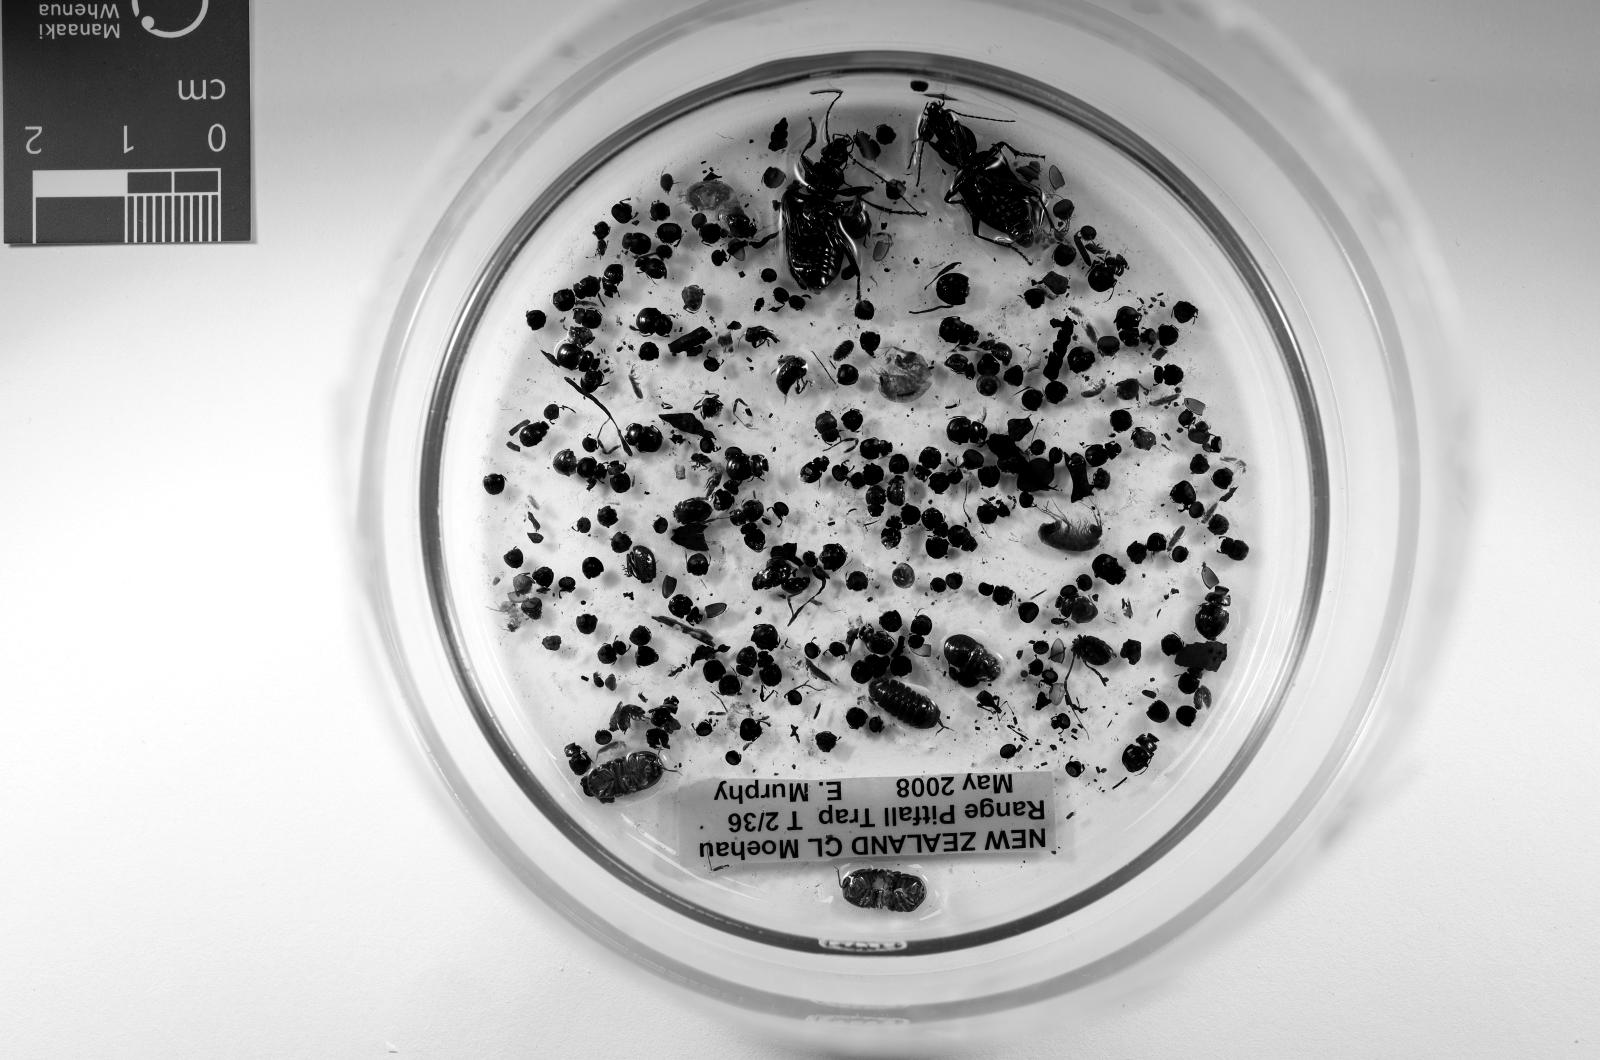acari: (660, 174, 675, 193), (594, 674, 603, 690)
amphipoda: (879, 348, 931, 403), (1037, 512, 1103, 552), (687, 180, 740, 214), (500, 602, 525, 634), (890, 562, 915, 587)
carabidae: (915, 99, 1050, 245), (775, 137, 872, 292)
coleoptera: (1193, 584, 1231, 640), (1088, 254, 1128, 292), (1122, 733, 1159, 774), (553, 342, 600, 373), (725, 451, 769, 481), (1056, 596, 1097, 625), (626, 422, 662, 453), (1090, 552, 1125, 584), (669, 593, 704, 625), (947, 416, 987, 444), (938, 317, 978, 344), (860, 625, 894, 655), (913, 447, 944, 481), (1115, 308, 1141, 348), (637, 308, 672, 336), (978, 338, 1012, 367), (1084, 441, 1122, 466), (757, 649, 782, 686), (799, 457, 831, 485), (600, 260, 626, 295), (853, 130, 881, 161), (906, 615, 931, 649), (565, 742, 590, 776), (607, 459, 631, 493), (728, 500, 763, 525), (713, 478, 738, 512), (850, 463, 885, 487), (947, 525, 978, 552), (922, 506, 950, 537), (634, 254, 666, 279), (881, 516, 903, 550), (1219, 537, 1250, 562), (597, 640, 628, 665), (740, 522, 765, 552), (816, 413, 841, 444), (519, 422, 550, 447), (944, 354, 974, 379), (860, 438, 894, 459), (1153, 363, 1185, 386), (1178, 667, 1203, 696), (734, 646, 757, 677), (575, 457, 607, 478), (866, 485, 887, 516), (572, 308, 603, 329), (622, 233, 650, 254), (887, 476, 906, 506), (782, 575, 809, 596), (572, 277, 600, 298), (594, 220, 609, 254), (753, 298, 765, 310)
collembola: (797, 658, 837, 686), (1147, 392, 1181, 407), (628, 369, 643, 401), (1081, 379, 1106, 397), (1222, 457, 1246, 472)
gastropoda: (974, 376, 1000, 397), (603, 674, 616, 690)
hymenoptera: (669, 665, 687, 677)
isopoda: (582, 751, 666, 801), (869, 677, 940, 730), (841, 870, 925, 913), (618, 705, 647, 733), (1193, 686, 1212, 711), (831, 338, 853, 360)
opiliones: (944, 634, 1000, 680), (1071, 636, 1115, 667), (672, 497, 713, 525)
